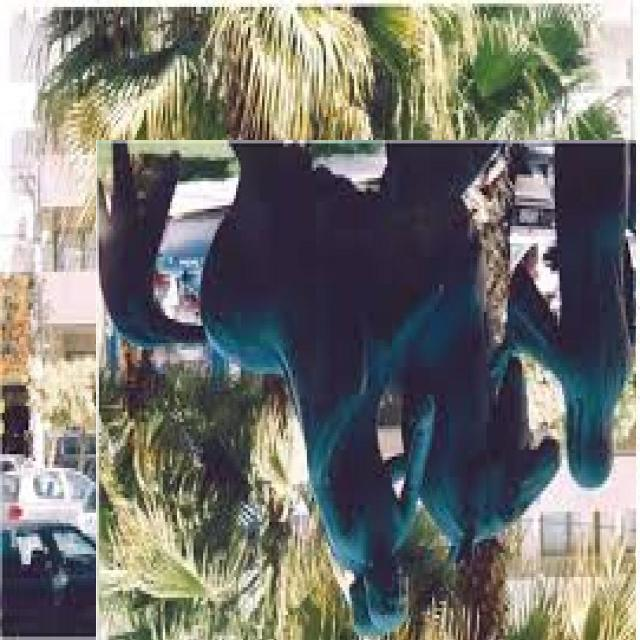Aretousa: (98, 141, 638, 640)
